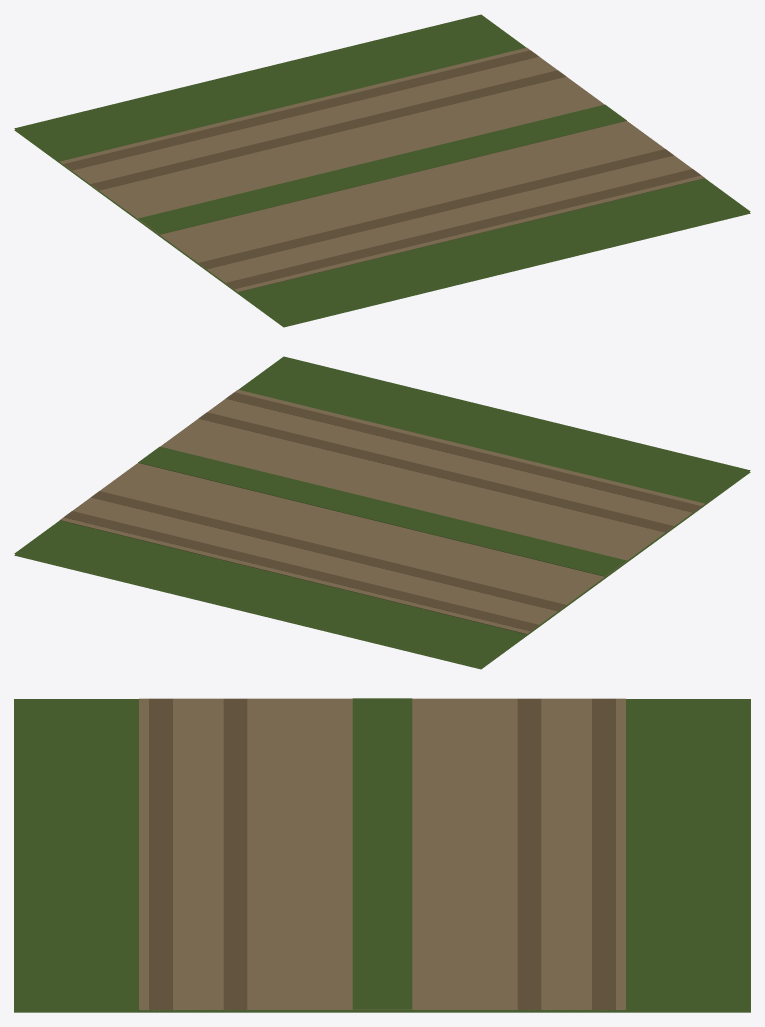
The model's file is pole_cesta.glb.
3 views of the same model, one above another, from view 1: azimuth 30°, elevation 25°; view 2: azimuth 150°, elevation 25°; view 3: azimuth 270°, elevation 25° (orthographic). The views are drawn at different scales.
Visible parts, largest first — view 1: cesta_trava.001; view 2: cesta_trava.001; view 3: cesta_trava.001.
Part boxes in pixels (x1,y1,x2,y2): cesta_trava.001: (14,14,750,327); cesta_trava.001: (14,356,750,669); cesta_trava.001: (14,698,750,1012).
Size of the model in its own units: 14.8 by 0.0698 by 14.8.
Materials: 1 (1 with a texture image).
